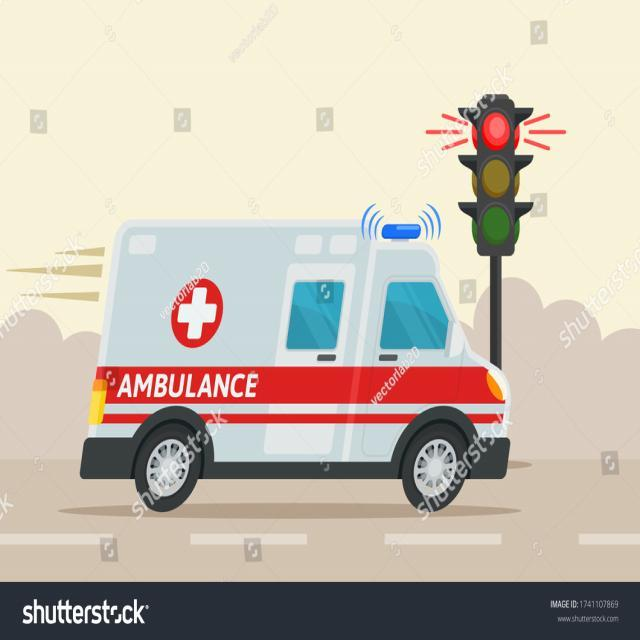emergency-vehicle: (69, 192, 513, 509)
